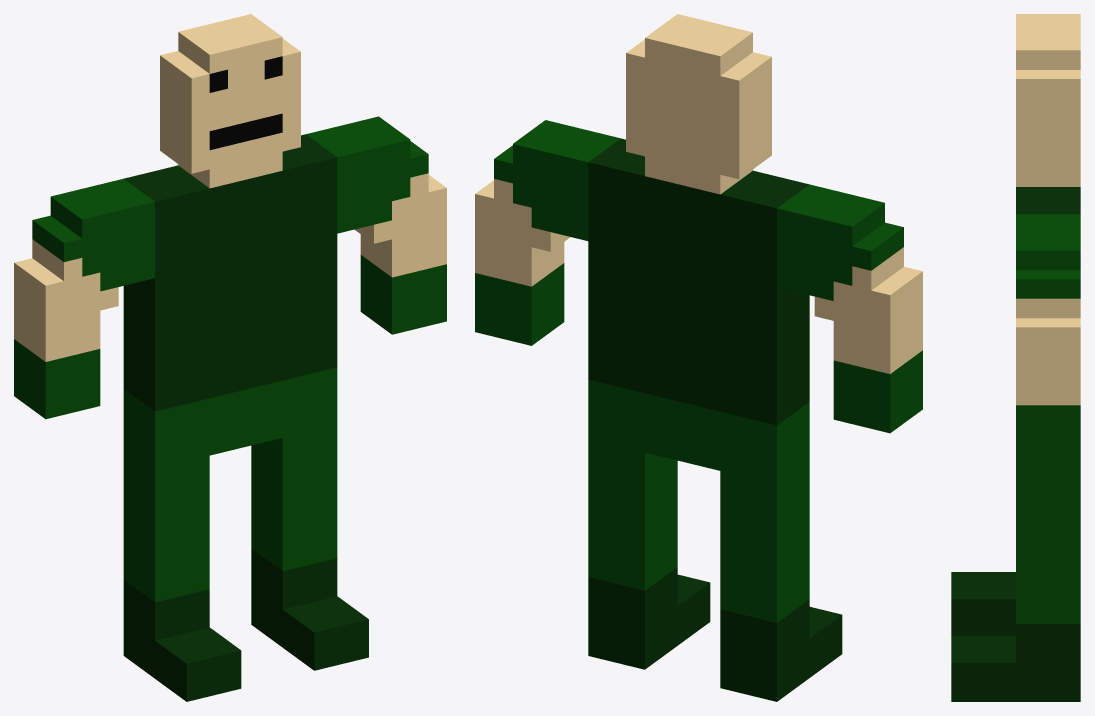
Rendered from Enemy.gltf.
3 views of the same model, side by side, from view 1: azimuth 30°, elevation 25°; view 2: azimuth 150°, elevation 25°; view 3: azimuth 270°, elevation 25° (orthographic). The views are drawn at different scales.
Visible parts, largest first — view 1: Layer.1; view 2: Layer.1; view 3: Layer.1.
Part boxes in pixels (x1=…): Layer.1: x1=14, y1=14, x2=446, y2=701; Layer.1: x1=475, y1=14, x2=922, y2=701; Layer.1: x1=951, y1=14, x2=1080, y2=701.
Size of the model in its own units: 22 by 32 by 6.
Materials: 1 (1 with a texture image).
